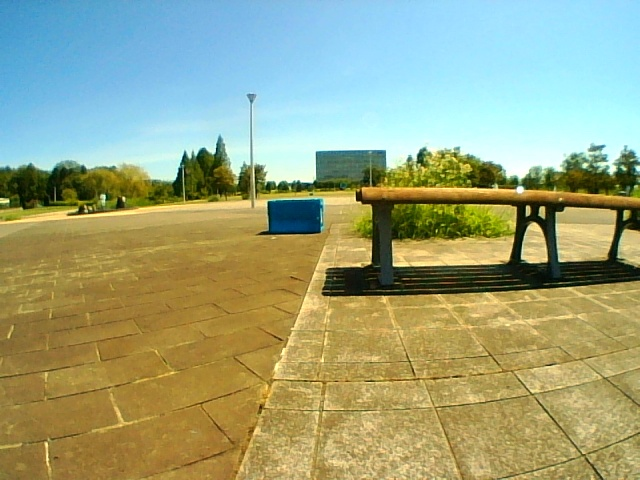blue_box: (268, 199, 323, 234)
tag: (320, 208, 322, 225)
